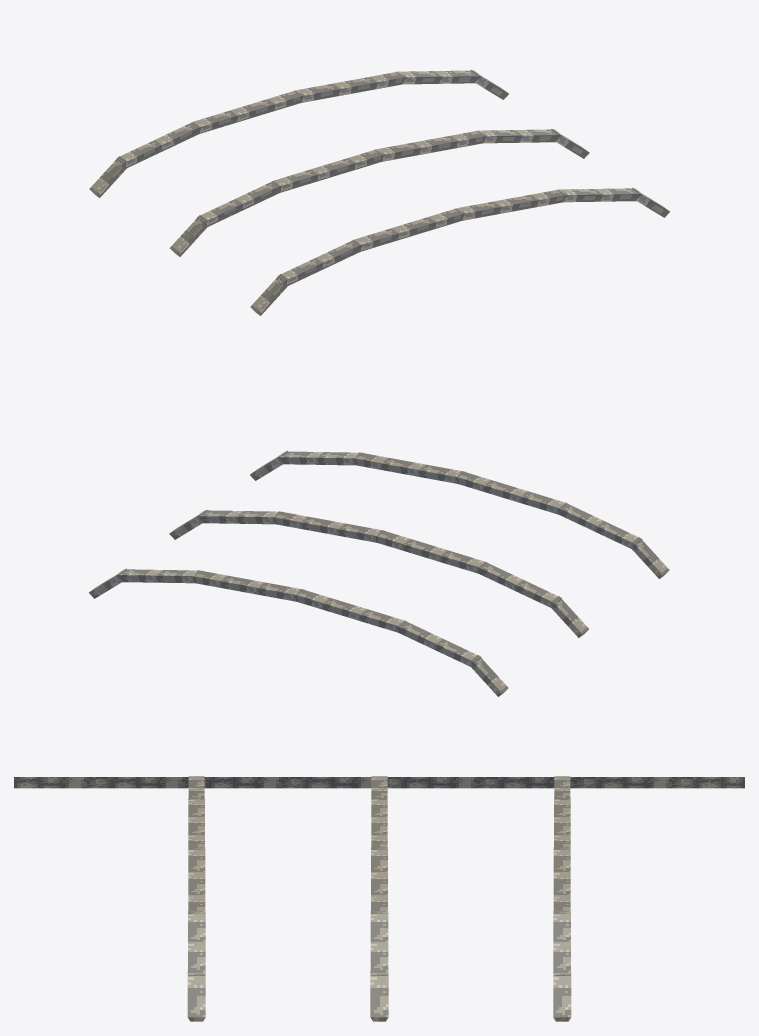
File: cst.ceiling__vault.glb
3 views of the same model, one above another, from view 1: azimuth 30°, elevation 25°; view 2: azimuth 150°, elevation 25°; view 3: azimuth 270°, elevation 25° (orthographic). The views are drawn at different scales.
Parts seen in each view (by area): view 1: kit_ribs; view 2: kit_ribs; view 3: kit_ribs, kit_shell_ceiling.
Part boxes in pixels (x1,y1,x2,y2): kit_ribs: (89,69,669,315); kit_ribs: (89,450,669,696); kit_ribs: (187,776,571,1021); kit_shell_ceiling: (14,777,744,788).
Size of the model in its own units: 11.1 by 1.39 by 15.
Materials: 2 (2 with a texture image).
